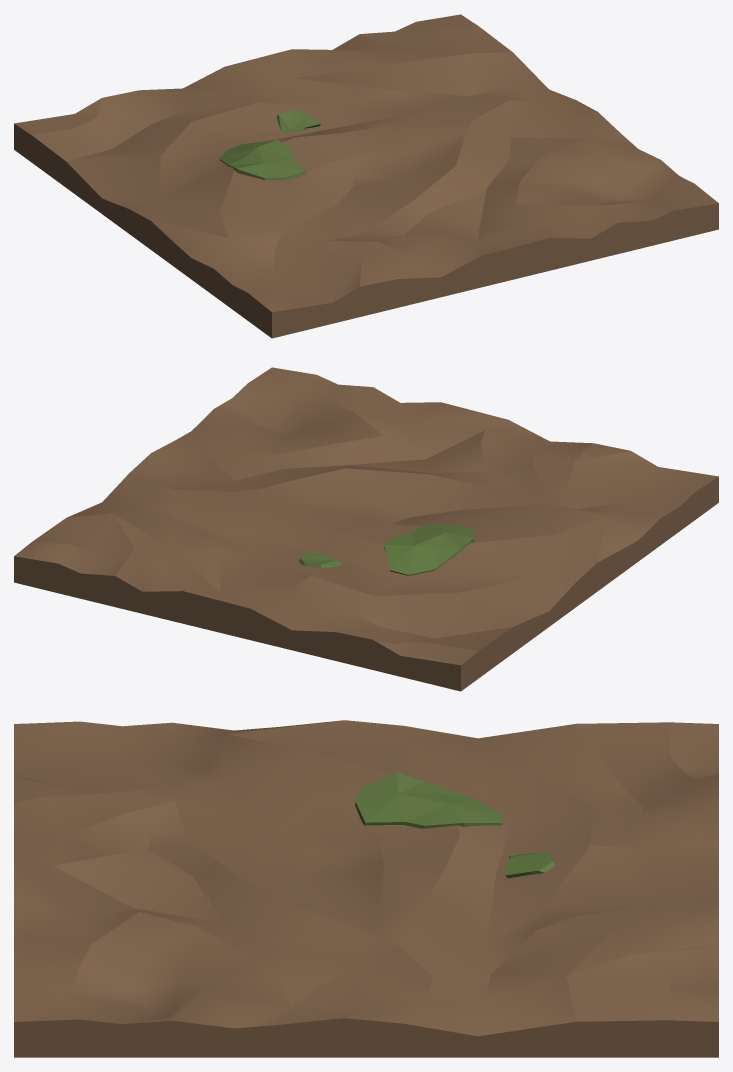
File: Ground_Base_B.glb
3 renders of one model, top to bottom at view 1: azimuth 30°, elevation 25°; view 2: azimuth 150°, elevation 25°; view 3: azimuth 270°, elevation 25°, orthographic. The views are drawn at different scales.
Visible parts, largest first — view 1: Ground_Base_B; view 2: Ground_Base_B; view 3: Ground_Base_B.
Boxes of the visible parts, <box> form: Ground_Base_B: <box>14,14,718,338</box>; Ground_Base_B: <box>14,367,718,691</box>; Ground_Base_B: <box>14,720,718,1057</box>.
Bounding box in the file's own units: 1.47 × 0.1312 × 1.47.
